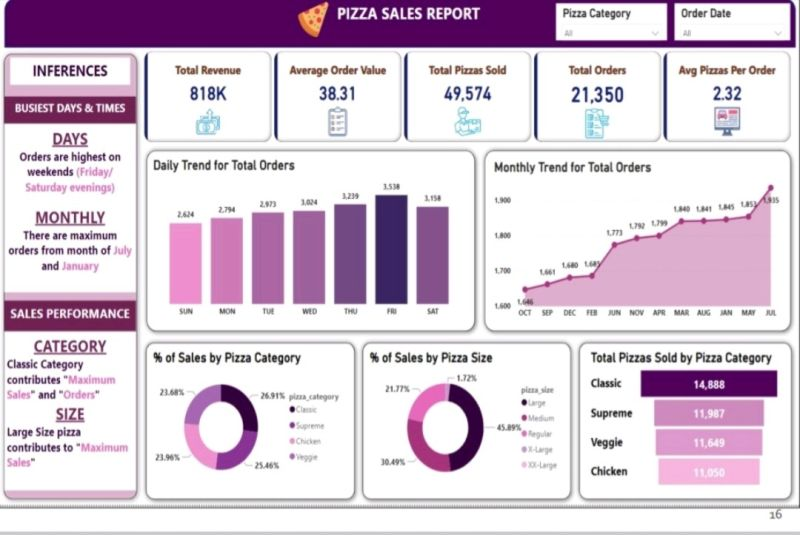

The dashboard page shown, as its layout file describes it:
{"tool":"powerbi","page":{"name":"Page 1","canvas":[1500,820],"ordinal":0},"visuals":[{"type":"cardVisual","fields":{"Data":["pizza_sales.Total Revenue","pizza_sales.Average Order Value","pizza_sales.Total Pizzas Sold","pizza_sales.Total Orders","pizza_sales.Avg Pizzas Per Order"]},"box":[267.2,80.3,1224.6,157.4],"z":0},{"type":"shape","box":[9.8,0,1482,80.3],"z":1000},{"type":"textbox","box":[508.2,0,516.4,80.3],"z":2000},{"type":"image","box":[552.5,0,72.1,68.9],"z":3000},{"type":"shape","box":[267.2,237.3,632.8,310.4],"z":4000},{"type":"columnChart","title":"Daily Trend for Total Orders","fields":{"Category":["pizza_sales.Order Day"],"Y":["pizza_sales.Total Orders"]},"box":[283.6,258.2,595.5,267.2],"z":5000},{"type":"shape","box":[900,237.3,591,310.4],"z":6000},{"type":"areaChart","title":"Monthly Trend for Total Orders","fields":{"Category":["pizza_sales.Order Month"],"Y":["pizza_sales.Total Orders"]},"box":[922.4,259.7,544.8,267.2],"z":7000},{"type":"shape","box":[265.7,547.8,409,271.6],"z":8000},{"type":"shape","box":[671.6,547.8,408,271.6],"z":9000},{"type":"shape","box":[1076.1,547.8,416,271.6],"z":10000},{"type":"donutChart","title":"% of Sales by Pizza Category","fields":{"Category":["pizza_sales.pizza_category"],"Y":["pizza_sales.Total Revenue"]},"box":[283.6,568.7,373.1,226.9],"z":11000},{"type":"donutChart","title":"% of Sales by Pizza Size","fields":{"Category":["pizza_sales.pizza_size"],"Y":["pizza_sales.Total Revenue"]},"box":[689.6,568.7,373.1,228.4],"z":12000},{"type":"funnel","title":"Total Pizzas Sold by Pizza Category","fields":{"Category":["pizza_sales.pizza_category"],"Y":["pizza_sales.Total Pizzas Sold"]},"box":[1103,568.7,364.2,228.4],"z":13000},{"type":"shape","box":[0,80.8,267.1,738.4],"z":14000},{"type":"textbox","box":[9.6,158.9,246.6,43.8],"z":15000},{"type":"textbox","box":[9.6,202.7,246.6,272.6],"z":16000},{"type":"textbox","box":[20.5,95.9,224.7,43.8],"z":17000},{"type":"textbox","box":[9.6,538.4,246.6,257.5],"z":17001},{"type":"textbox","box":[9.6,489,246.6,49.3],"z":17002},{"type":"slicer","fields":{"Values":["pizza_sales.pizza_category"]},"box":[1042.5,8.2,208.2,60.3],"z":17003},{"type":"slicer","fields":{"Values":["pizza_sales.order_date"]},"box":[1264.4,8.2,216.4,60.3],"z":17004}]}

Visuals, with their boxes in screenshot pixels (x1, y1, x2, y2):
cardVisual - pizza_sales.Total Revenue x pizza_sales.Average Order Value: detection(139, 46, 799, 132)
shape: detection(0, 2, 799, 46)
textbox: detection(271, 2, 552, 46)
image: detection(295, 2, 334, 40)
shape: detection(139, 131, 485, 301)
"Daily Trend for Total Orders" columnChart: detection(148, 143, 473, 289)
shape: detection(485, 131, 799, 301)
"Monthly Trend for Total Orders" areaChart: detection(497, 144, 794, 289)
shape: detection(139, 301, 362, 449)
shape: detection(360, 301, 582, 449)
shape: detection(581, 301, 799, 449)
"% of Sales by Pizza Category" donutChart: detection(148, 312, 352, 436)
"% of Sales by Pizza Size" donutChart: detection(370, 312, 573, 437)
"Total Pizzas Sold by Pizza Category" funnel: detection(595, 312, 794, 437)
shape: detection(0, 46, 139, 449)
textbox: detection(0, 89, 133, 113)
textbox: detection(0, 113, 133, 261)
textbox: detection(5, 54, 127, 78)
textbox: detection(0, 296, 133, 436)
textbox: detection(0, 269, 133, 296)
slicer - pizza_sales.pizza_category: detection(562, 7, 676, 39)
slicer - pizza_sales.order_date: detection(683, 7, 799, 39)
